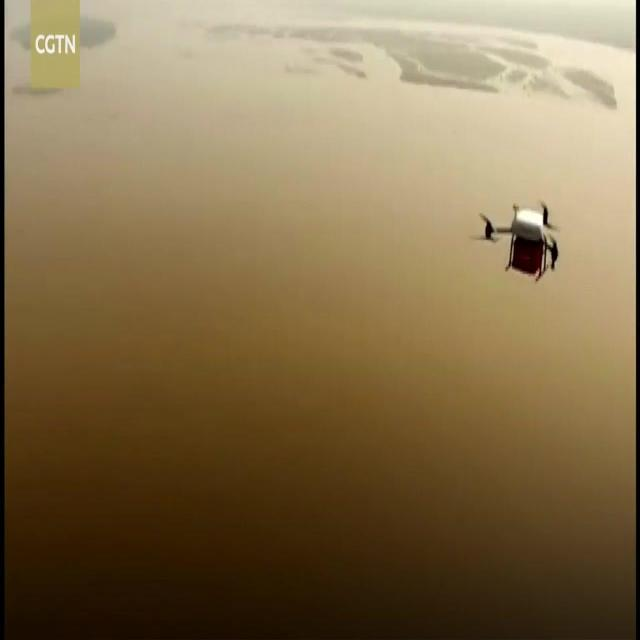drone: (482, 200, 568, 282)
